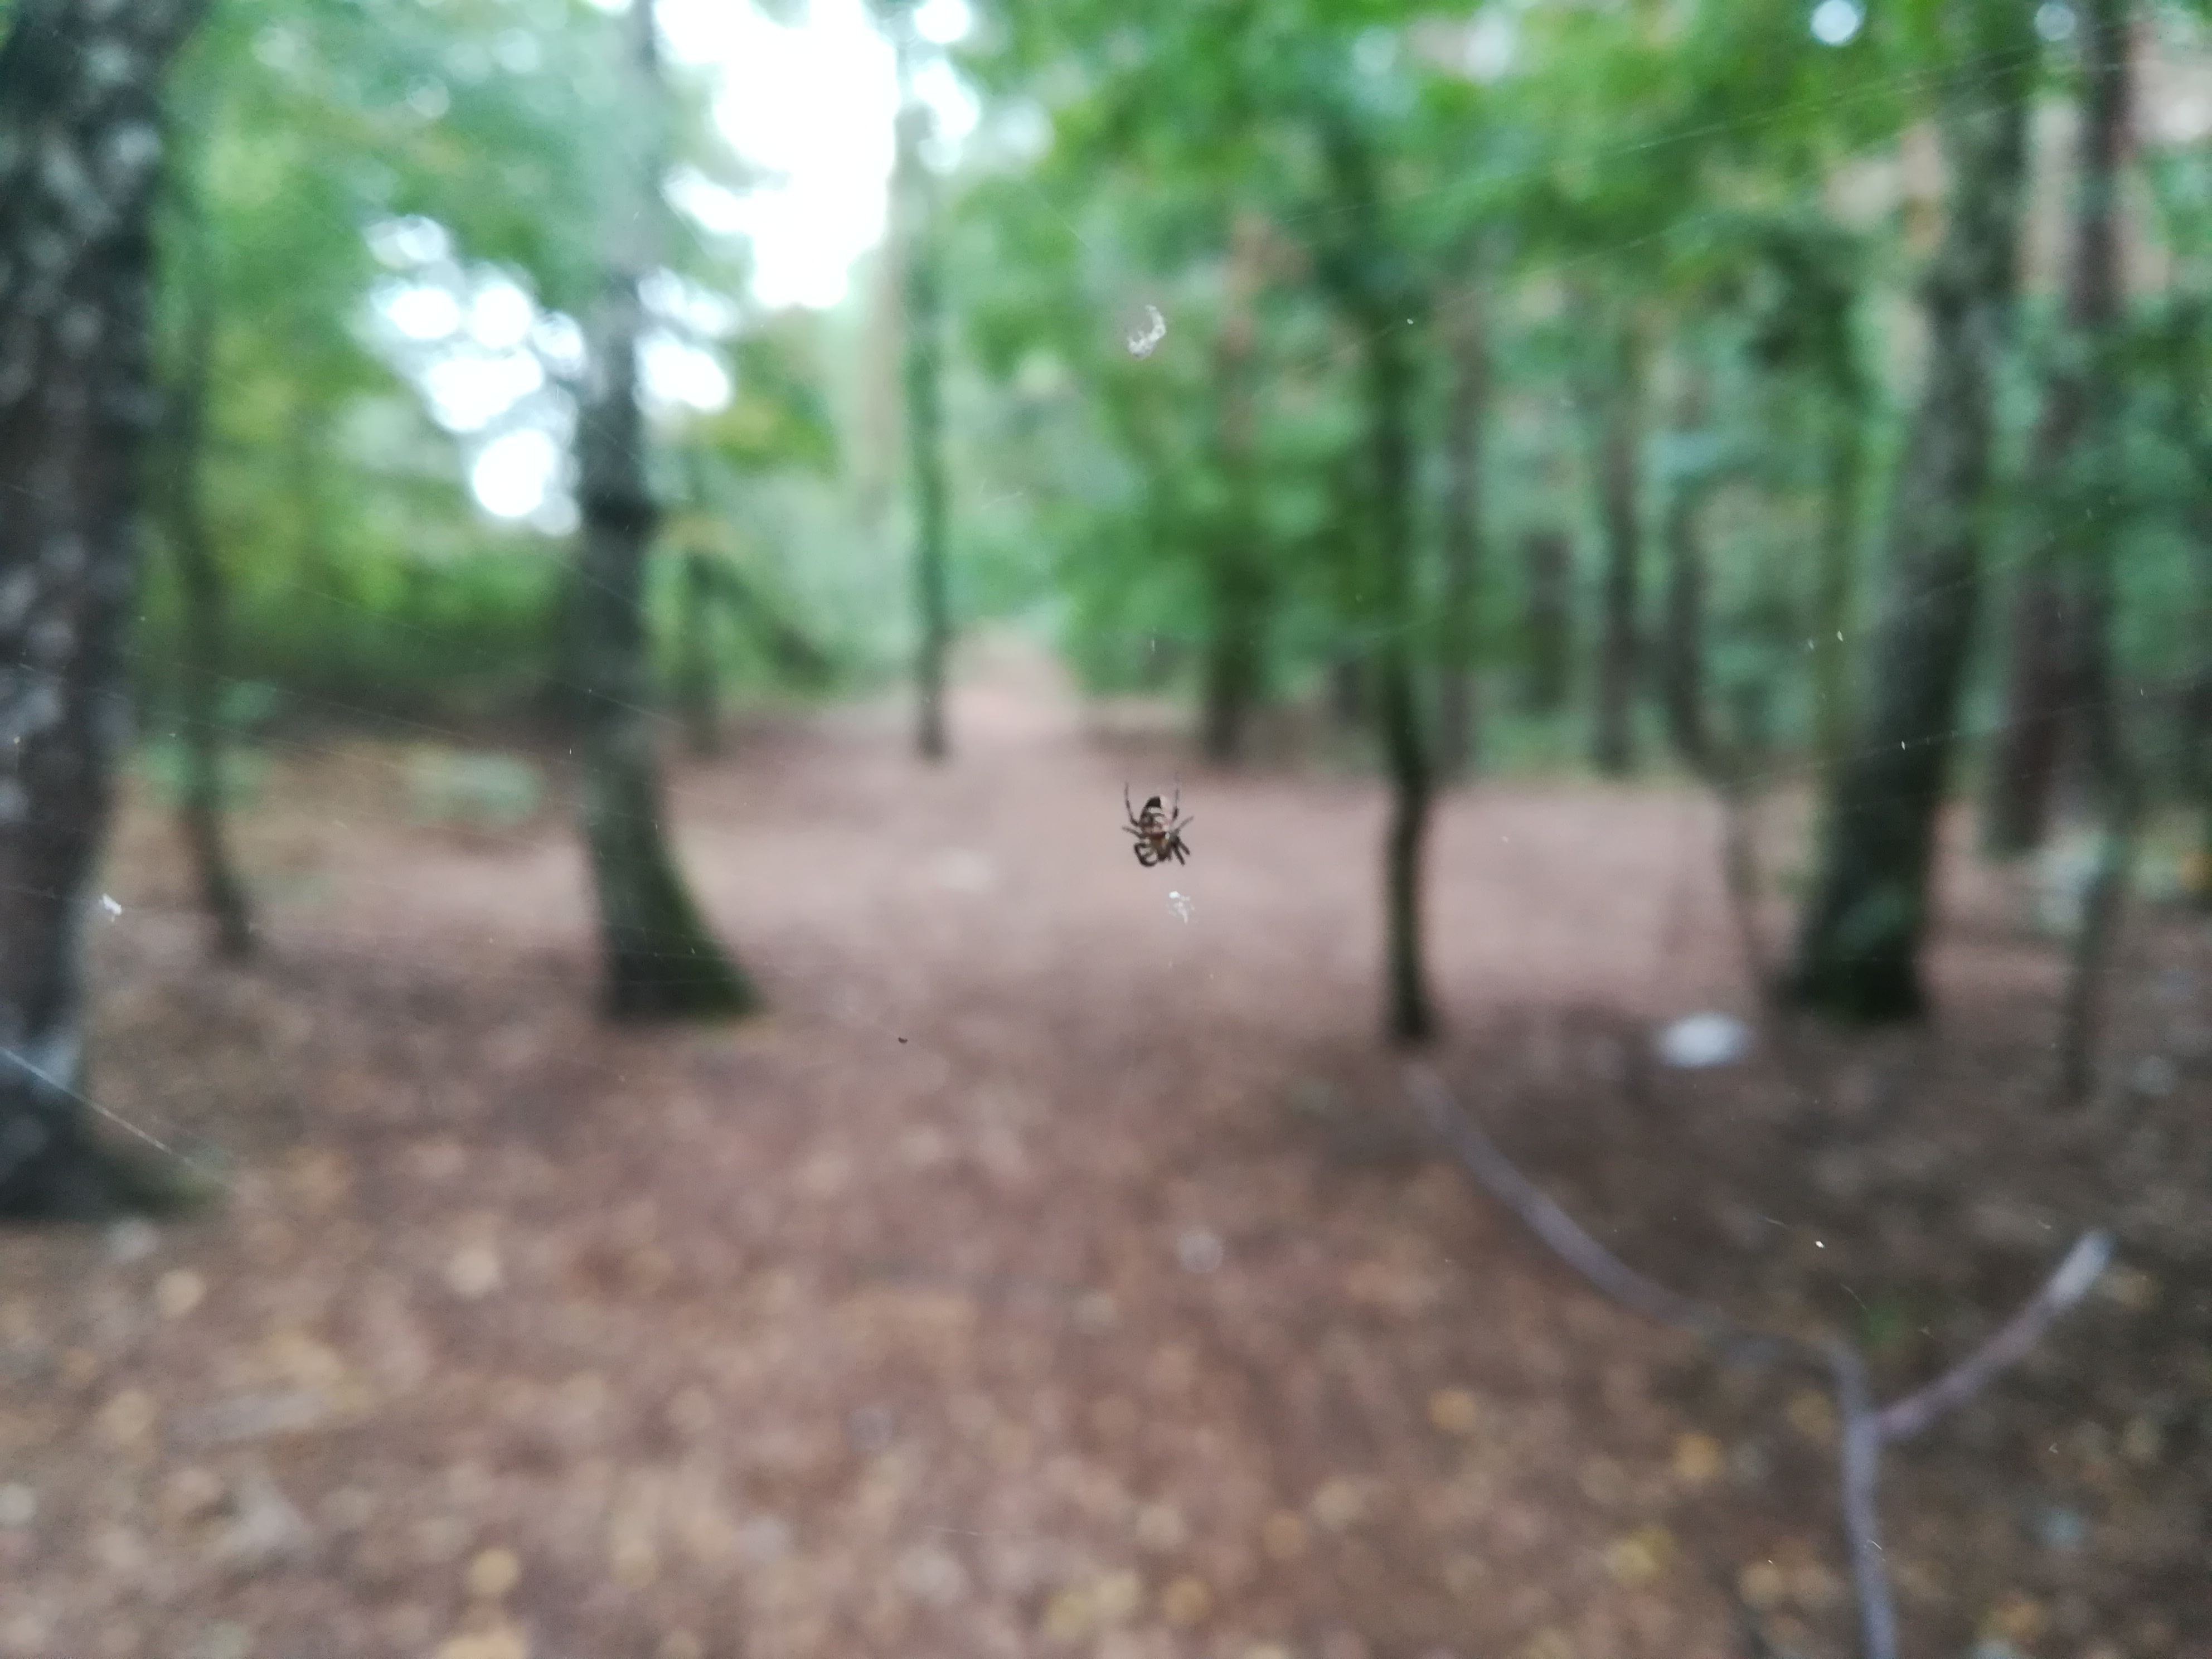spider: (1108, 770, 1211, 892)
